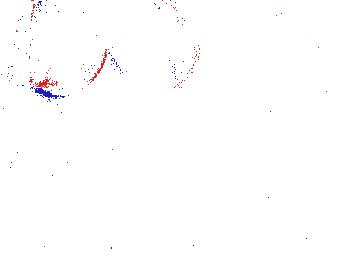moon jellyfish: (105, 6, 200, 93), (27, 1, 108, 98)
